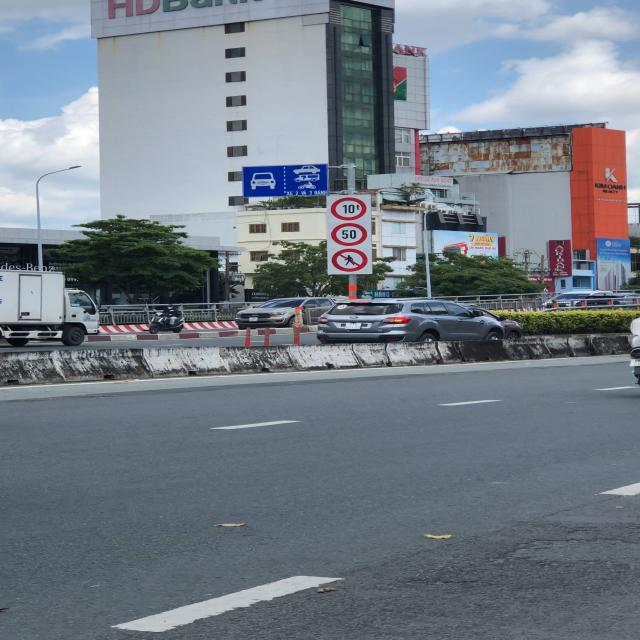Bien bao cam nguoi di bo: (331, 248, 368, 270)
Bien bao toc do toi da cho phep: (328, 220, 369, 247)
